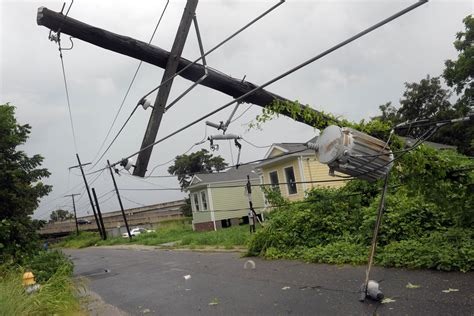pole: (33, 1, 459, 198)
